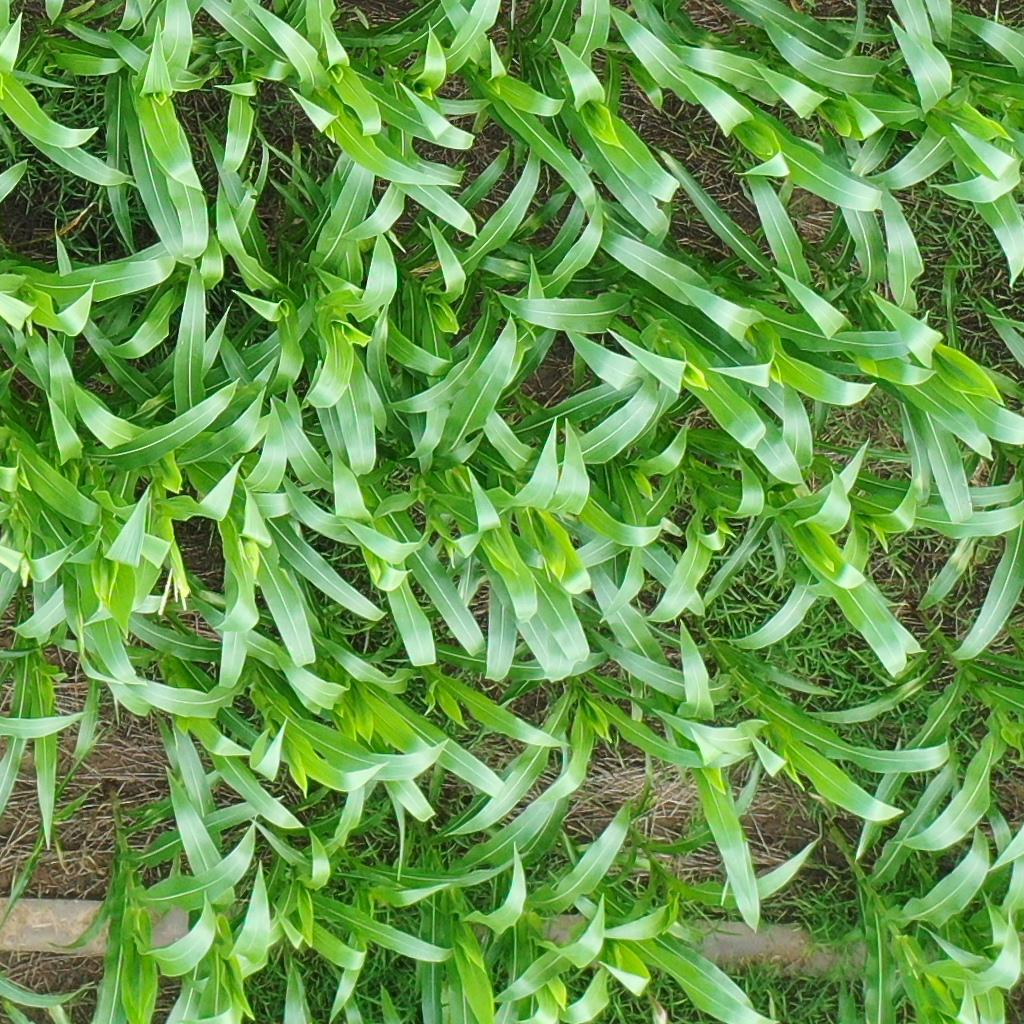Tassel: (154, 564, 193, 620), (11, 554, 42, 592)
